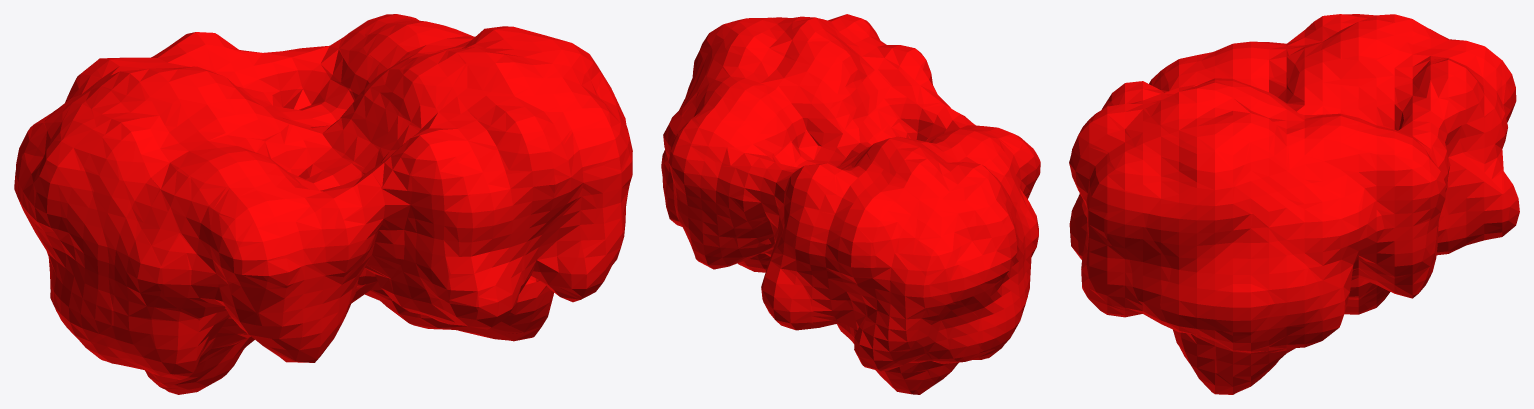
Rendered from rffH_coarse.dae.
3 renders of one model, left to right at view 1: azimuth 30°, elevation 25°; view 2: azimuth 150°, elevation 25°; view 3: azimuth 270°, elevation 25°, orthographic. The views are drawn at different scales.
Visible parts, largest first — view 1: rffH; view 2: rffH; view 3: rffH.
Part boxes in pixels (bbox=[...]): rffH: bbox=[14, 14, 632, 394]; rffH: bbox=[661, 14, 1040, 394]; rffH: bbox=[1069, 14, 1519, 394].
Size of the model in its own units: 81.66 by 55.13 by 70.44.
